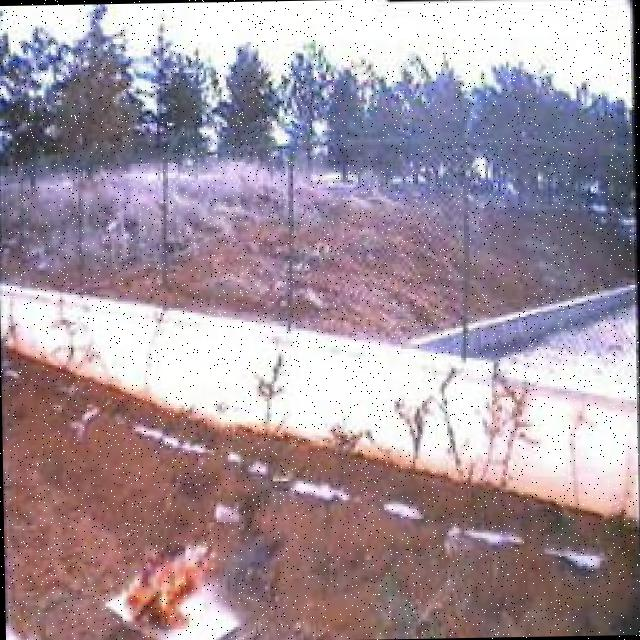fire: (120, 536, 202, 630)
